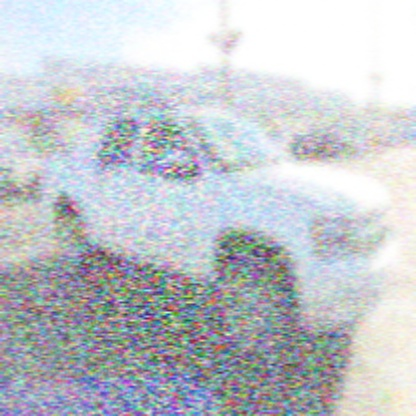Vehicle: (39, 99, 405, 365)
